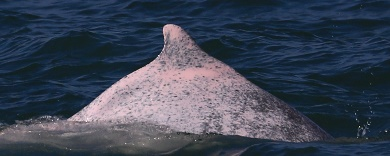fin: (44, 21, 345, 152)
